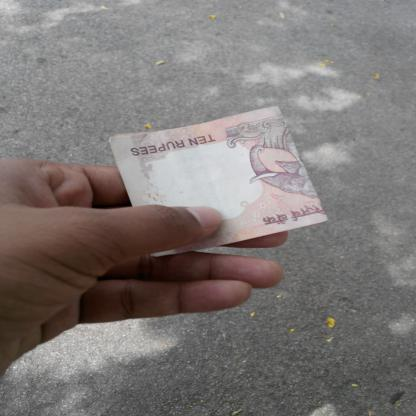Old10Back: (107, 104, 328, 258)
